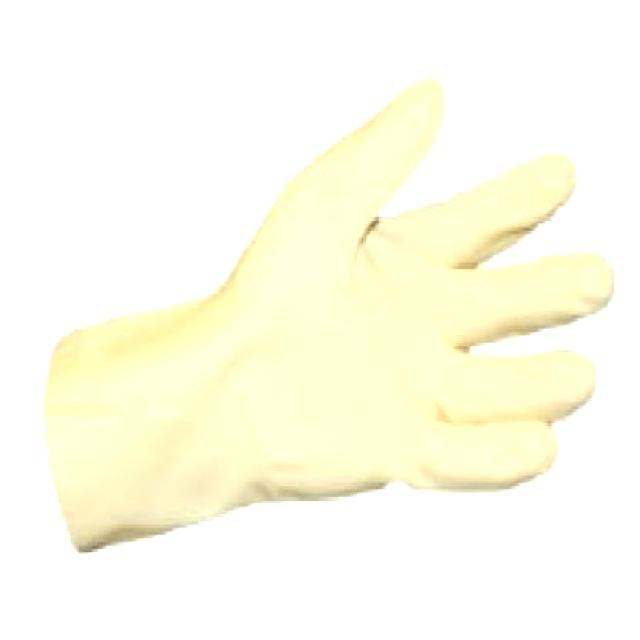glove: (41, 81, 622, 564)
